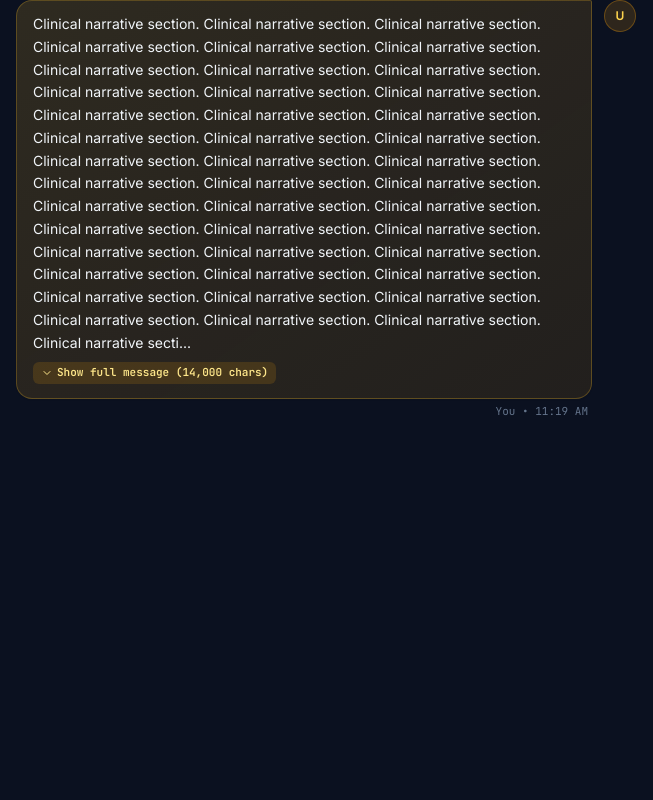
QA Vector 2: Ultra-Long Prompts, Nested Code Blocks, LaTeX, Tables & XSS › renders and toggles ultra-long 12,000+ character user prompts cleanly
Step 1. Click the button "Show full message (14,000 chars)" → coordinates (155, 373), box [33,362,276,384]
(page scrolled)
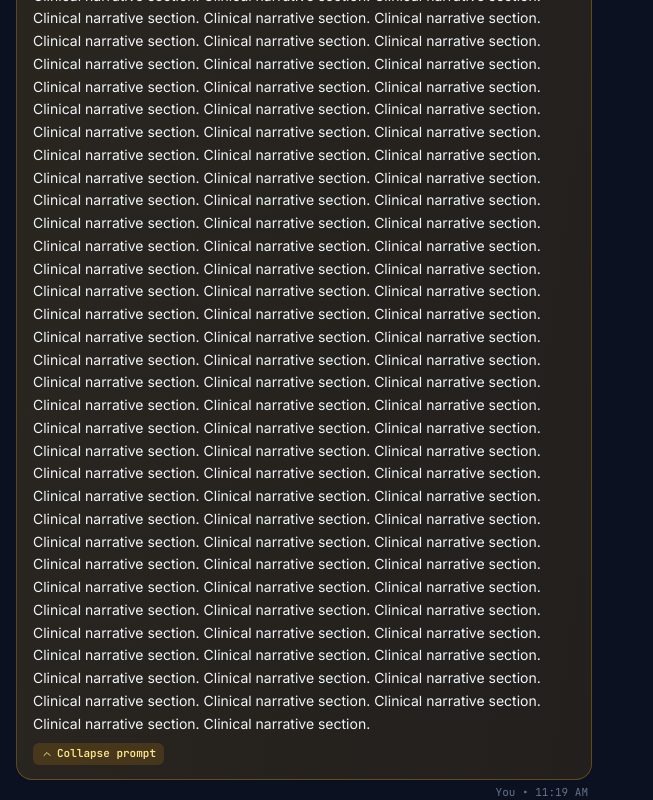
Expected: the button "Collapse prompt" is shown, [33,743,164,765]
